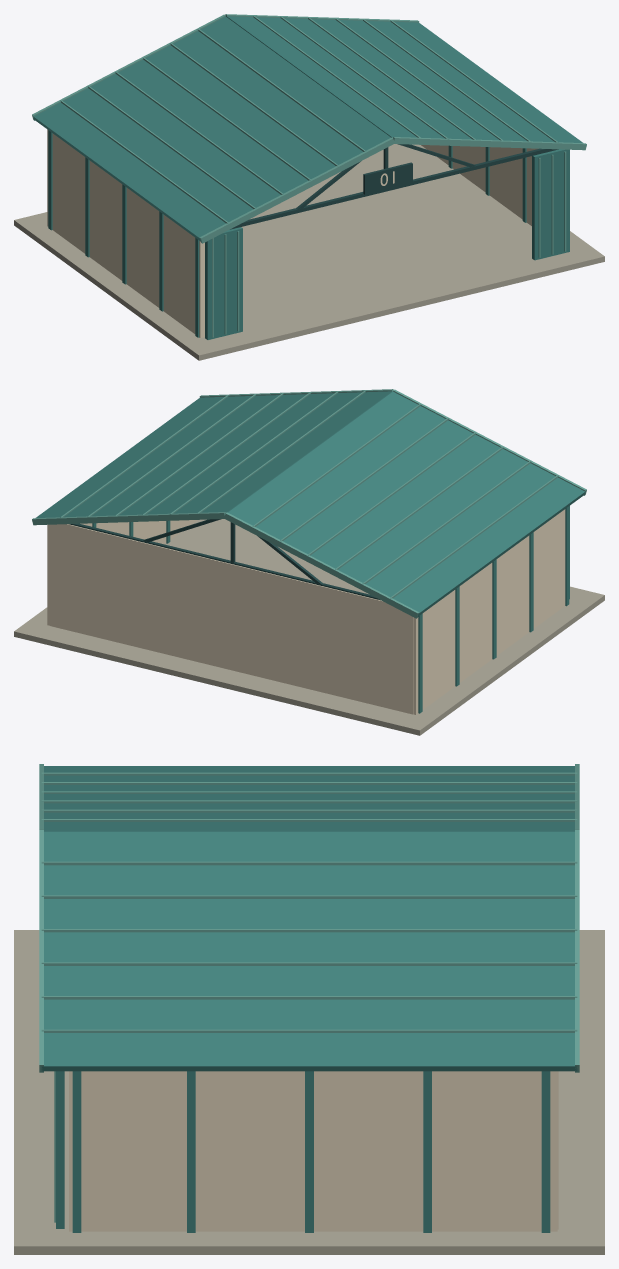
Rendered from open_gable_hangar.glb.
The picture shows the model from 3 angles, top to bottom: view 1: azimuth 30°, elevation 25°; view 2: azimuth 150°, elevation 25°; view 3: azimuth 270°, elevation 25°; orthographic projection. The views are drawn at different scales.
Parts seen in each view (by area): view 1: open_gable_hangar; view 2: open_gable_hangar; view 3: open_gable_hangar.
Part boxes in pixels (x1=…): open_gable_hangar: x1=14, y1=14, x2=604, y2=360; open_gable_hangar: x1=14, y1=389, x2=604, y2=735; open_gable_hangar: x1=14, y1=764, x2=604, y2=1254.
Size of the model in its own units: 19 by 7.49 by 15.
